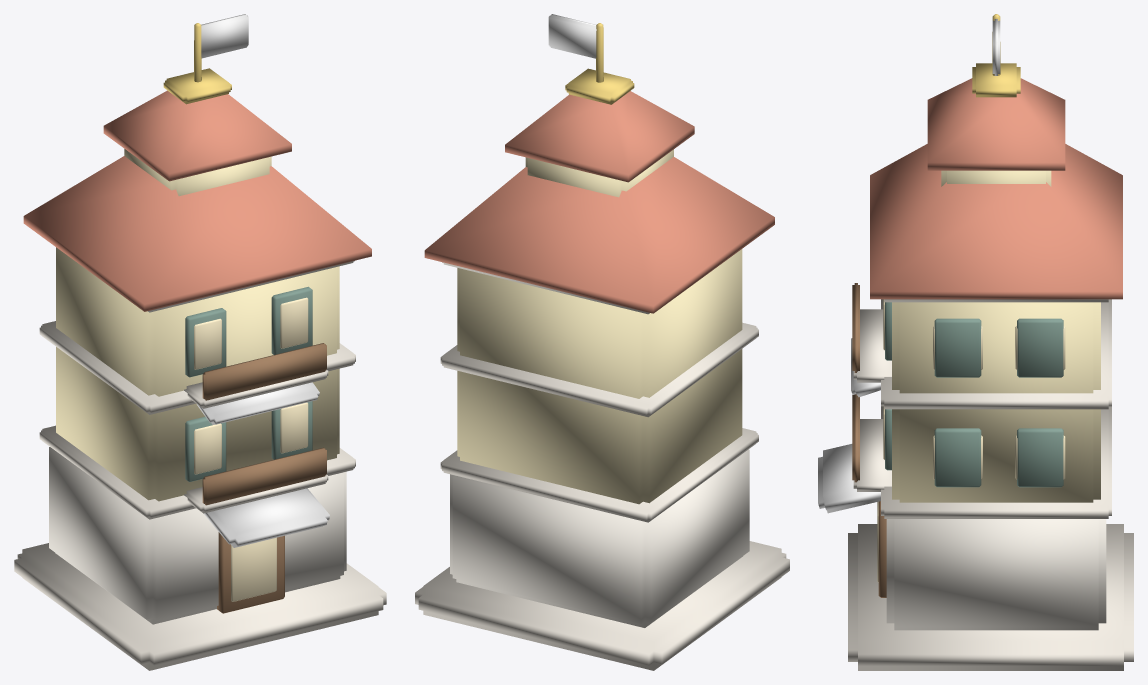
Rendered from lvl3_hanoi.glb.
3 views of the same model, side by side, from view 1: azimuth 30°, elevation 25°; view 2: azimuth 150°, elevation 25°; view 3: azimuth 270°, elevation 25° (orthographic). The views are drawn at different scales.
Parts seen in each view (by area): view 1: lvl3_hanoi; view 2: lvl3_hanoi; view 3: lvl3_hanoi.
Part boxes in pixels (x1=…): lvl3_hanoi: x1=14, y1=14, x2=386, y2=670; lvl3_hanoi: x1=415, y1=14, x2=789, y2=670; lvl3_hanoi: x1=818, y1=14, x2=1133, y2=670.
Size of the model in its own units: 0.54 by 1.2 by 0.5745.
